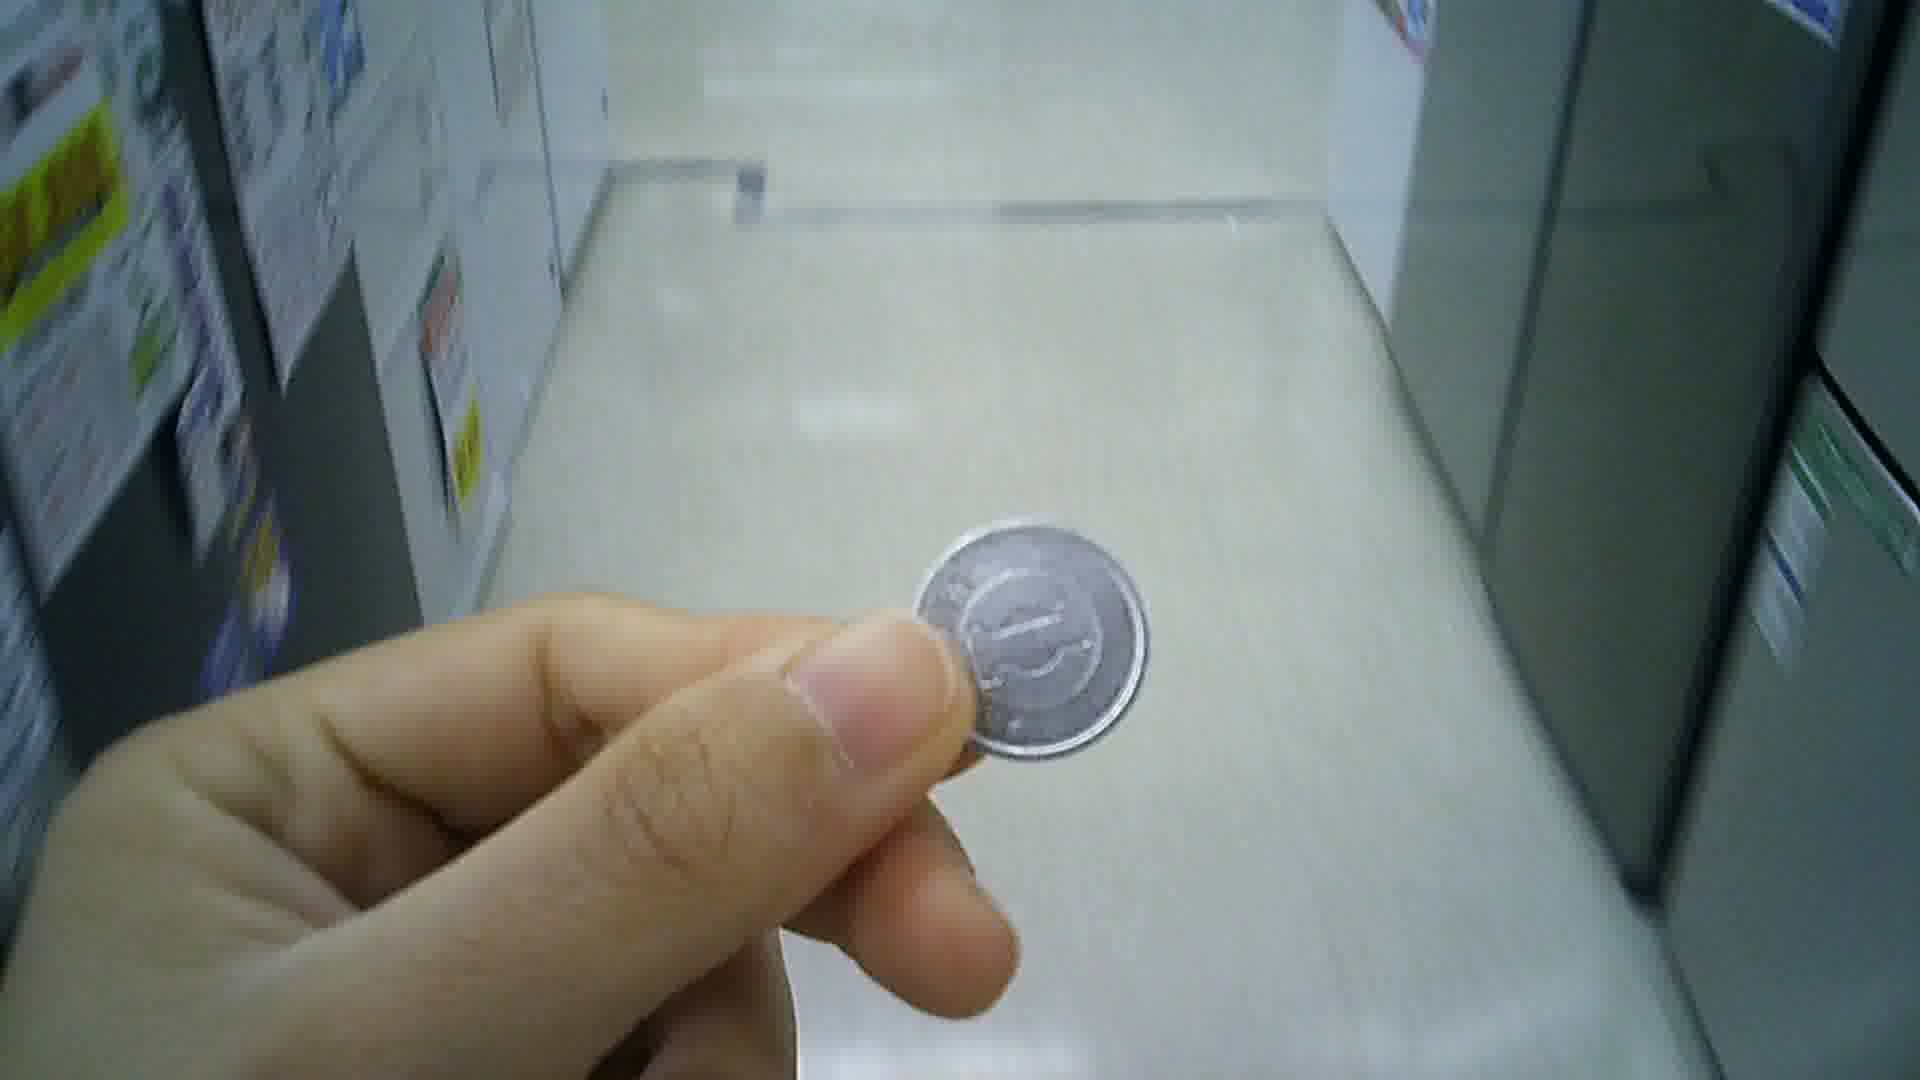1 Yen: (909, 510, 1159, 756)
